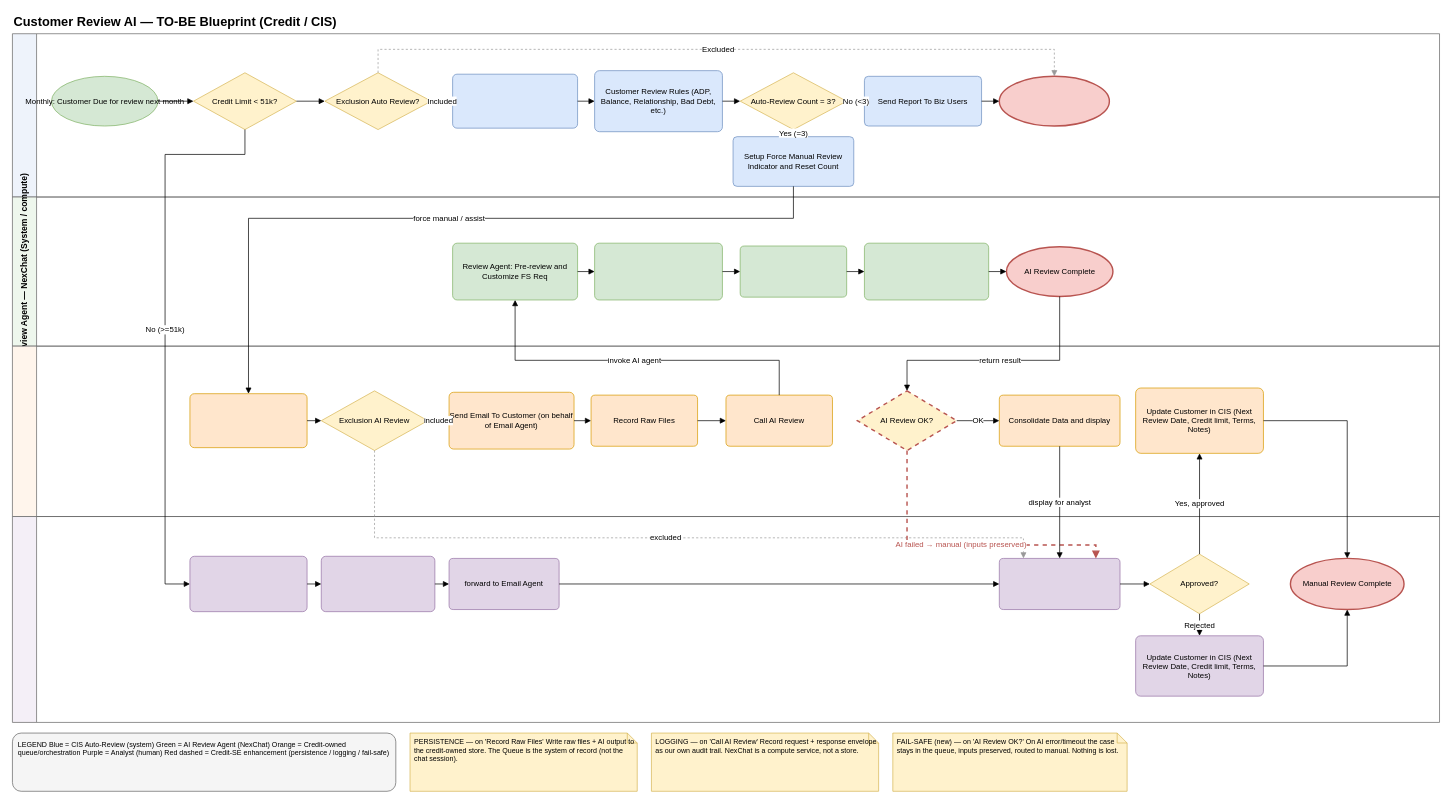
The diagram is 1452 pixels wide and 804 high, and some of its shapes have lost their labels. Here are the shapes that lost their labels. From the top down, the box of each, then its label:
(452, 73, 578, 128): Send FS Req Email To Customer (on behalf of Email Agent)
(12, 33, 1440, 197): CIS Auto-Review Engine (System)
(998, 75, 1110, 126): Auto Review Complete
(594, 242, 722, 300): Email Agent: Receive Customer's Response
(739, 245, 847, 297): Review Agent: AI Review
(864, 242, 989, 300): Review Agent: AI Summary and Suggestions
(189, 393, 307, 448): Need AI assistance Customer Que
(12, 345, 1440, 517): Customer Review Queue — Credit-Owned Orchestration
(189, 556, 307, 612): Manual Send FS Req Email to Customer
(321, 556, 435, 612): Receive Customer's Response
(999, 558, 1120, 610): Manual Review
(12, 516, 1440, 722): Credit Analyst — Manual Review (Human)
